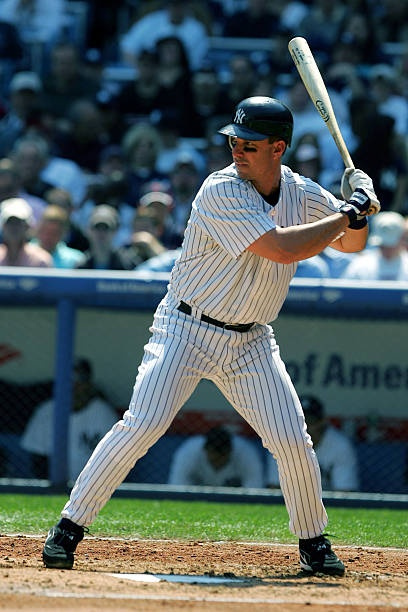bita: (286, 36, 372, 200)
